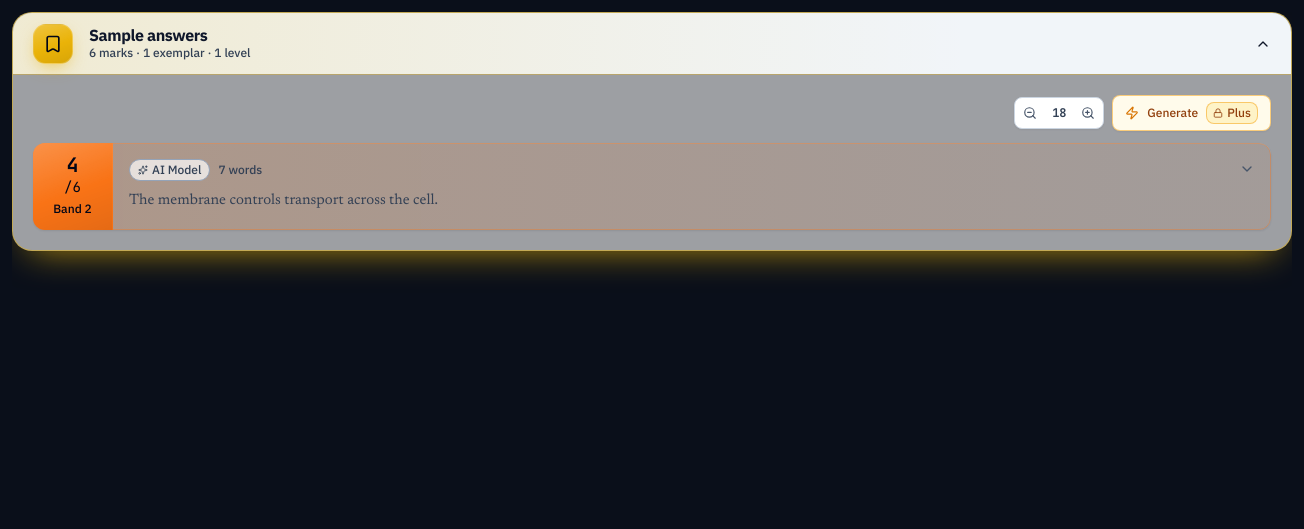
Scenario: the answer and the commentary are kept apart › keeps the metrics and the actions on the paper’s own foot, not in the commentary
This screenshot has width=1304, height=529.
Click the button that starts with "AI Model" at {"x": 180, "y": 170}, box [113,143,1271,230]
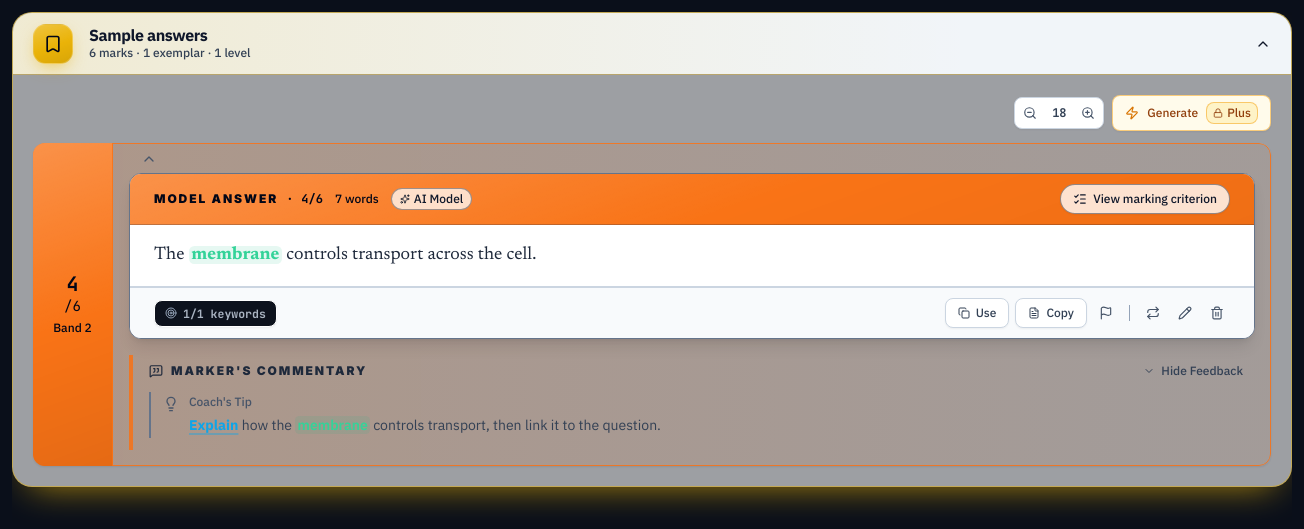
Check: the button "Copy" is shown, box [1016,298,1087,328]
